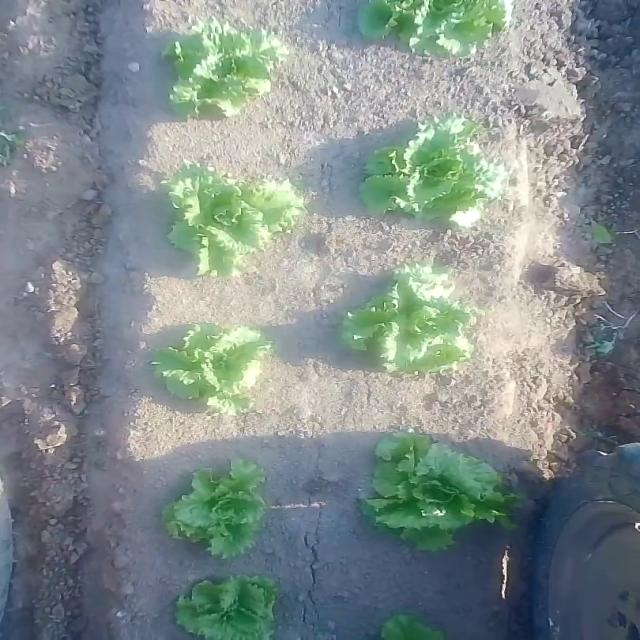Lettuce-Ready-to-Harvest: (358, 116, 496, 225), (157, 165, 305, 266), (370, 438, 501, 552), (155, 18, 286, 114), (346, 285, 474, 378), (149, 320, 281, 404), (165, 470, 281, 562), (170, 572, 276, 640)
